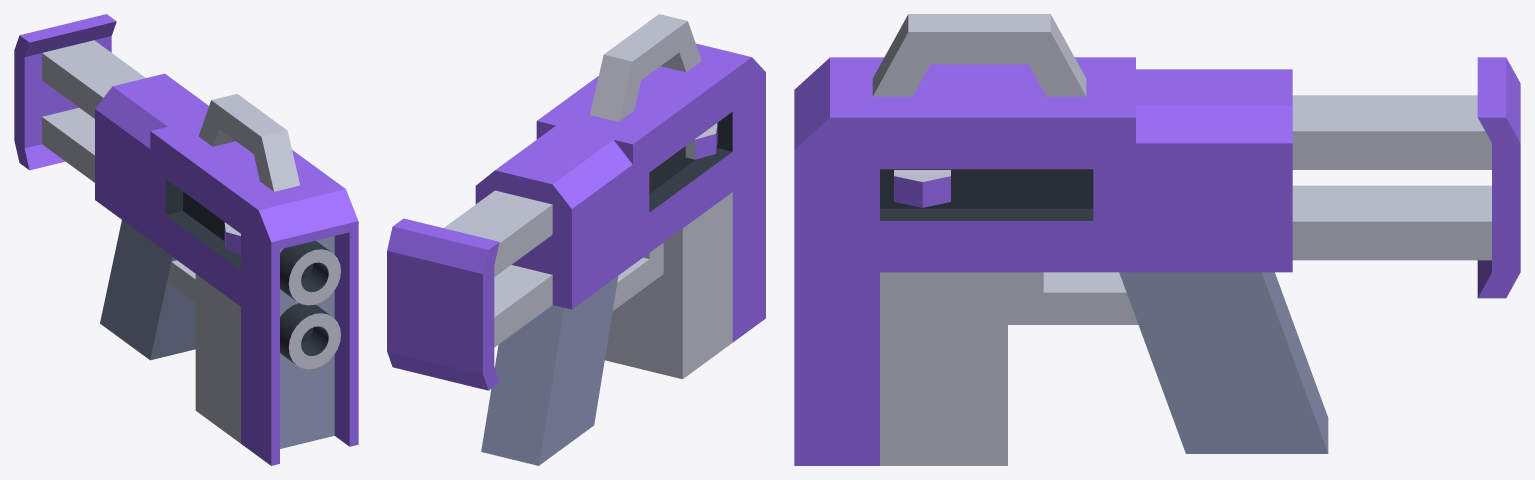
File: blasterI.glb
The picture shows the model from 3 angles, left to right: view 1: azimuth 30°, elevation 25°; view 2: azimuth 150°, elevation 25°; view 3: azimuth 270°, elevation 25°; orthographic projection. The views are drawn at different scales.
Visible parts, largest first — view 1: blasterI; view 2: blasterI; view 3: blasterI.
Part boxes in pixels (box(x1,y1,x2,y2)): blasterI: box(14, 14, 358, 465); blasterI: box(387, 14, 765, 465); blasterI: box(794, 14, 1520, 465).
Bounding box in the file's own units: 0.1 × 0.32 × 0.51.
